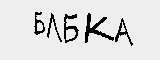Б: (120, 21, 142, 45)
В: (76, 23, 94, 46)
Д: (96, 20, 120, 49)
П: (18, 21, 39, 42), (39, 20, 59, 38)
Ң: (57, 23, 77, 43)
